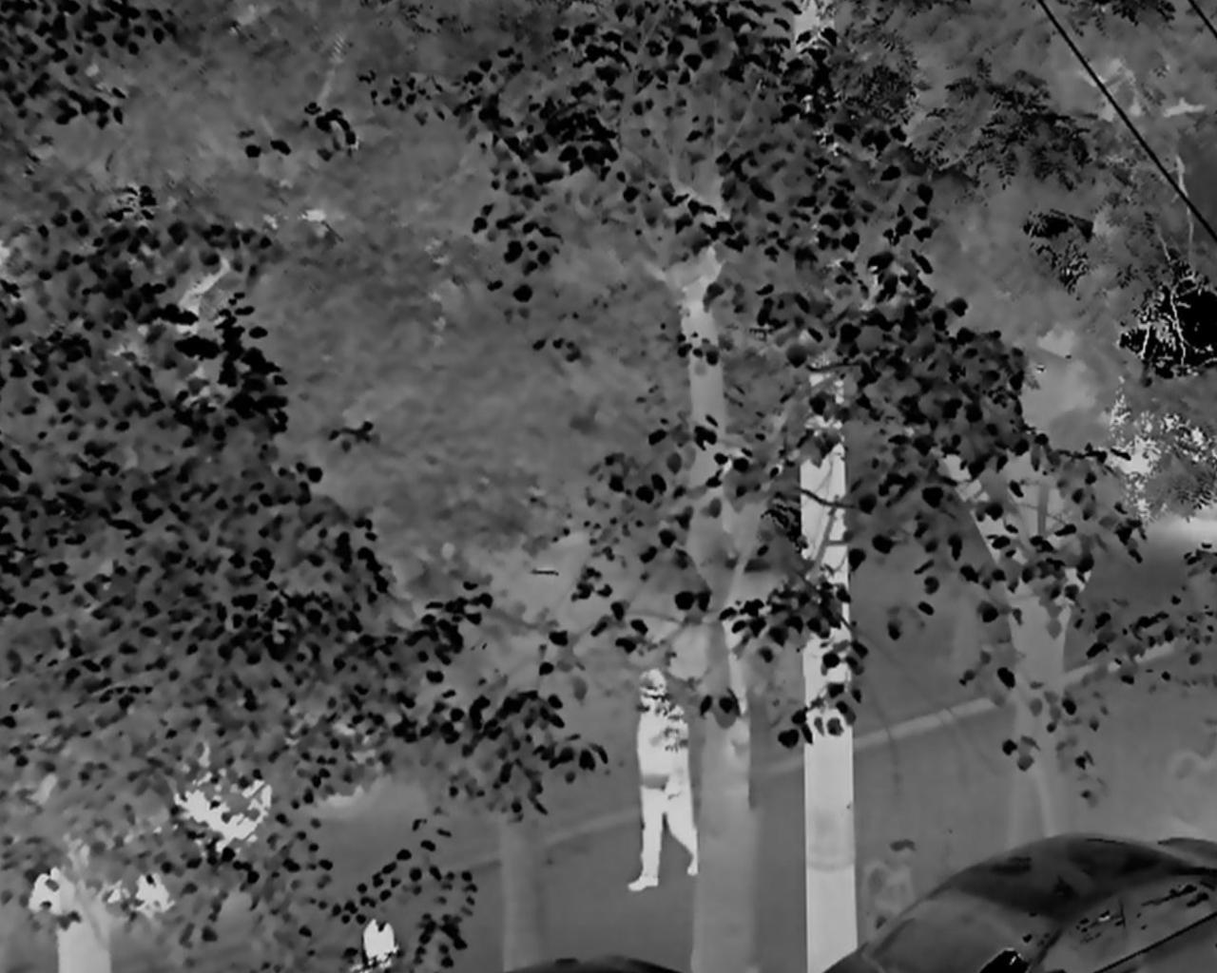person: (634, 661, 700, 892)
